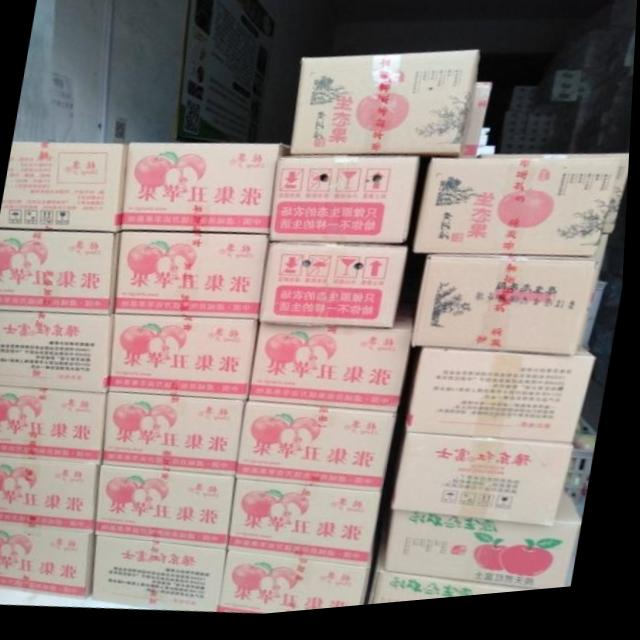box: (415, 166, 623, 267), (291, 58, 481, 166), (389, 497, 588, 600), (415, 261, 600, 366), (409, 355, 599, 455), (397, 440, 578, 537), (253, 322, 417, 419), (123, 145, 291, 239), (240, 406, 401, 499), (233, 483, 386, 575), (118, 233, 271, 324), (270, 160, 421, 251), (262, 247, 411, 336), (112, 316, 261, 404), (99, 466, 241, 554), (107, 394, 251, 480), (1, 142, 129, 233), (0, 230, 122, 317), (98, 538, 232, 615), (0, 311, 117, 394), (224, 555, 377, 618), (376, 554, 541, 612), (0, 386, 110, 467), (0, 456, 105, 536), (0, 523, 101, 601), (460, 91, 493, 167)
